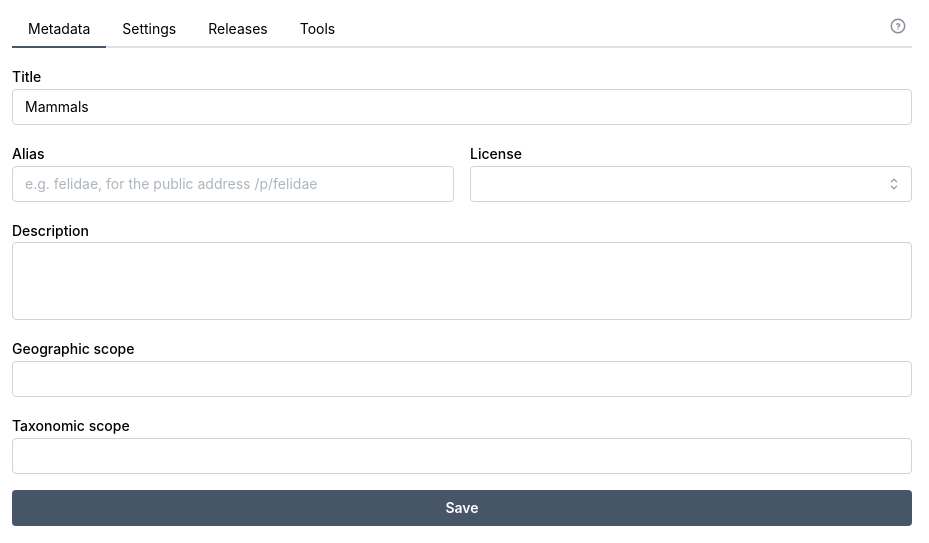
Test case: a project with a matchable identifier scope enables "Match all identifiers"
Check: the field labelled "Title" holds "Mammals", box [12, 89, 912, 125]
Step 1. Click the tab "Tools" → (317, 30), box [284, 12, 351, 48]
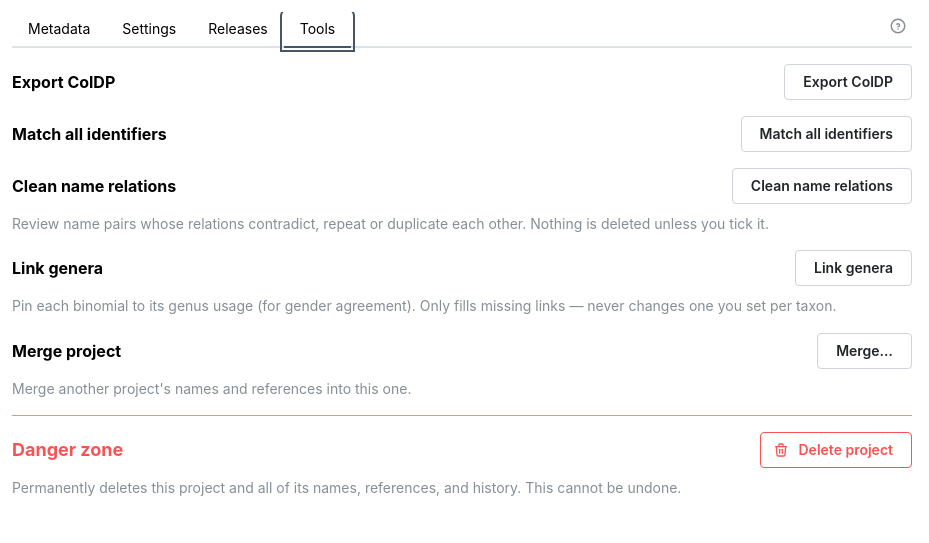
Check: the button "Match all identifiers" is enabled, box [740, 116, 912, 152]
